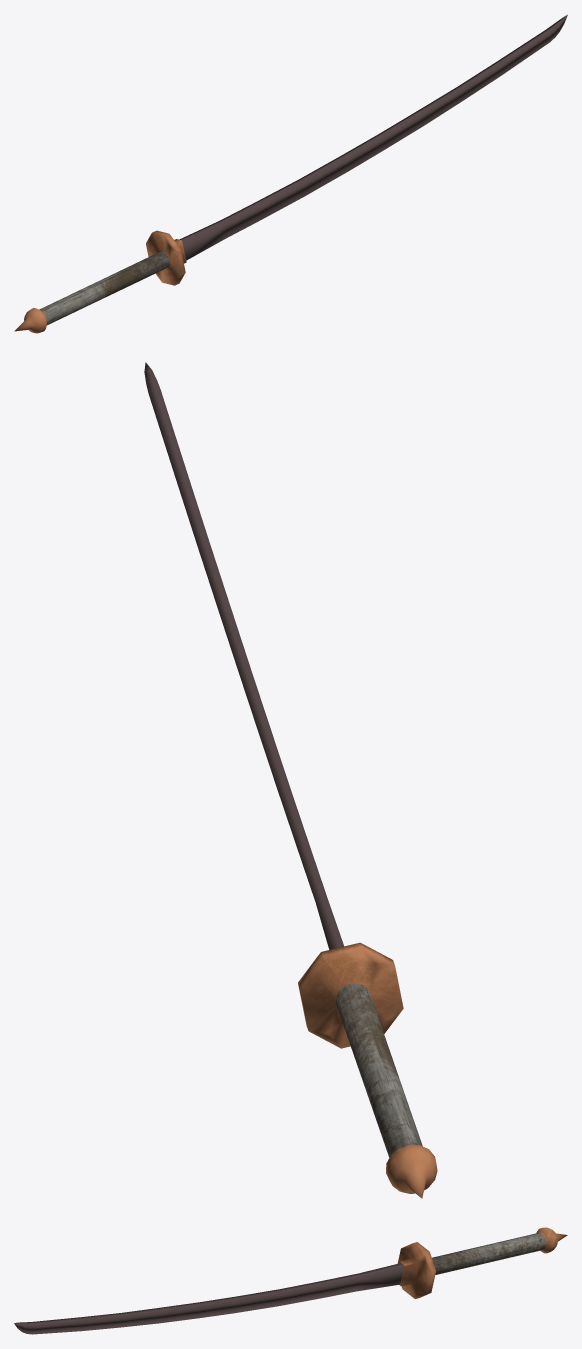
Rendered from Anim_idle_katana_objetos.0054.obj.
3 renders of one model, top to bottom at view 1: azimuth 90°, elevation 25°; view 2: azimuth 150°, elevation 25°; view 3: azimuth 270°, elevation 25°, orthographic. The views are drawn at different scales.
Parts seen in each view (by area): view 1: Katana1; view 2: Katana1; view 3: Katana1.
Part boxes in pixels (x1,y1,x2,y2): Katana1: [14, 14, 567, 333]; Katana1: [144, 362, 437, 1198]; Katana1: [14, 1227, 567, 1334].
Bounding box in the file's own units: 3.46 × 0.9788 × 3.99.
